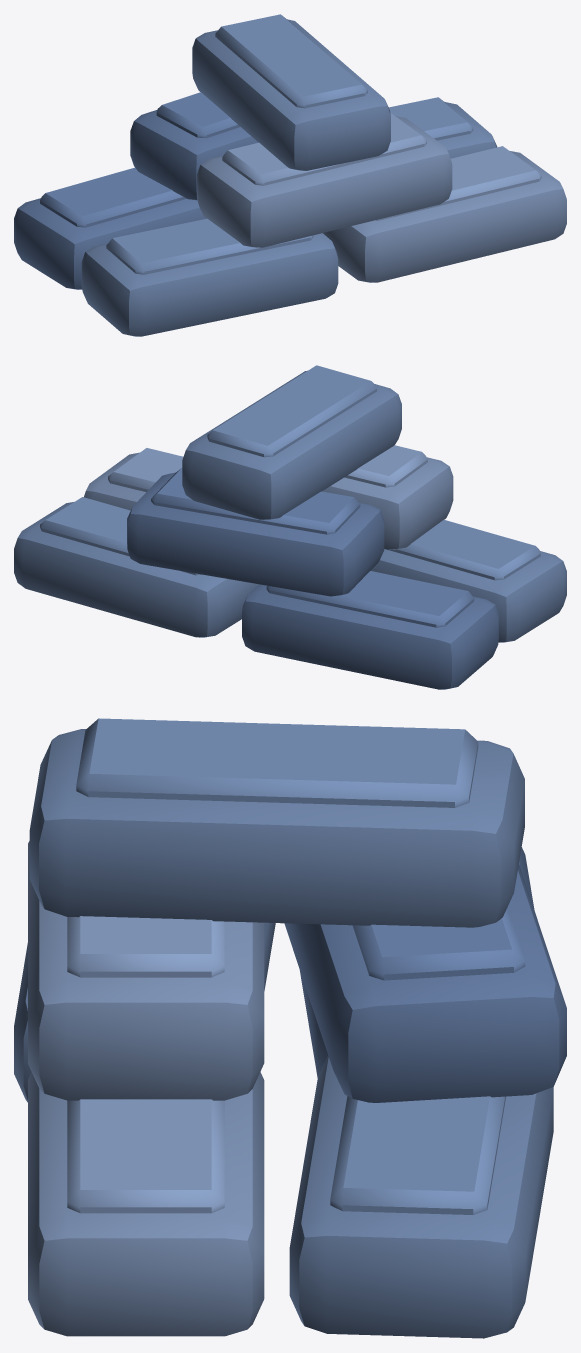
The model's file is p_pile_metal.glb.
3 views of the same model, one above another, from view 1: azimuth 30°, elevation 25°; view 2: azimuth 150°, elevation 25°; view 3: azimuth 270°, elevation 25° (orthographic). The views are drawn at different scales.
Parts seen in each view (by area): view 1: body; view 2: body; view 3: body.
Part boxes in pixels (bbox=[...]): body: bbox=[14, 14, 566, 336]; body: bbox=[14, 365, 566, 689]; body: bbox=[14, 718, 566, 1338].
Size of the model in its own units: 1.55 by 0.65 by 0.8426.
